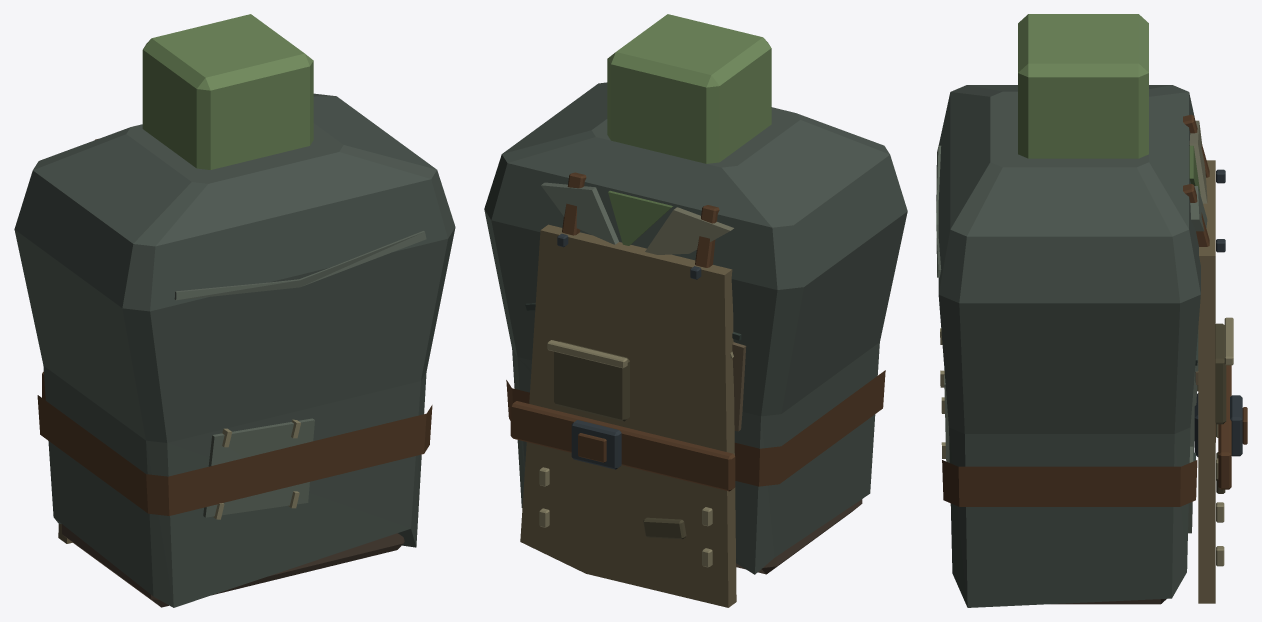
File: Body.glb
The picture shows the model from 3 angles, left to right: view 1: azimuth 30°, elevation 25°; view 2: azimuth 150°, elevation 25°; view 3: azimuth 270°, elevation 25°; orthographic projection. The views are drawn at different scales.
Visible parts, largest first — view 1: Sculpture; view 2: Sculpture; view 3: Sculpture.
Part boxes in pixels (x1,y1,x2,y2): Sculpture: [14, 14, 455, 607]; Sculpture: [484, 14, 907, 607]; Sculpture: [936, 14, 1247, 607].
Size of the model in its own units: 0.57 by 0.841 by 0.4515.
